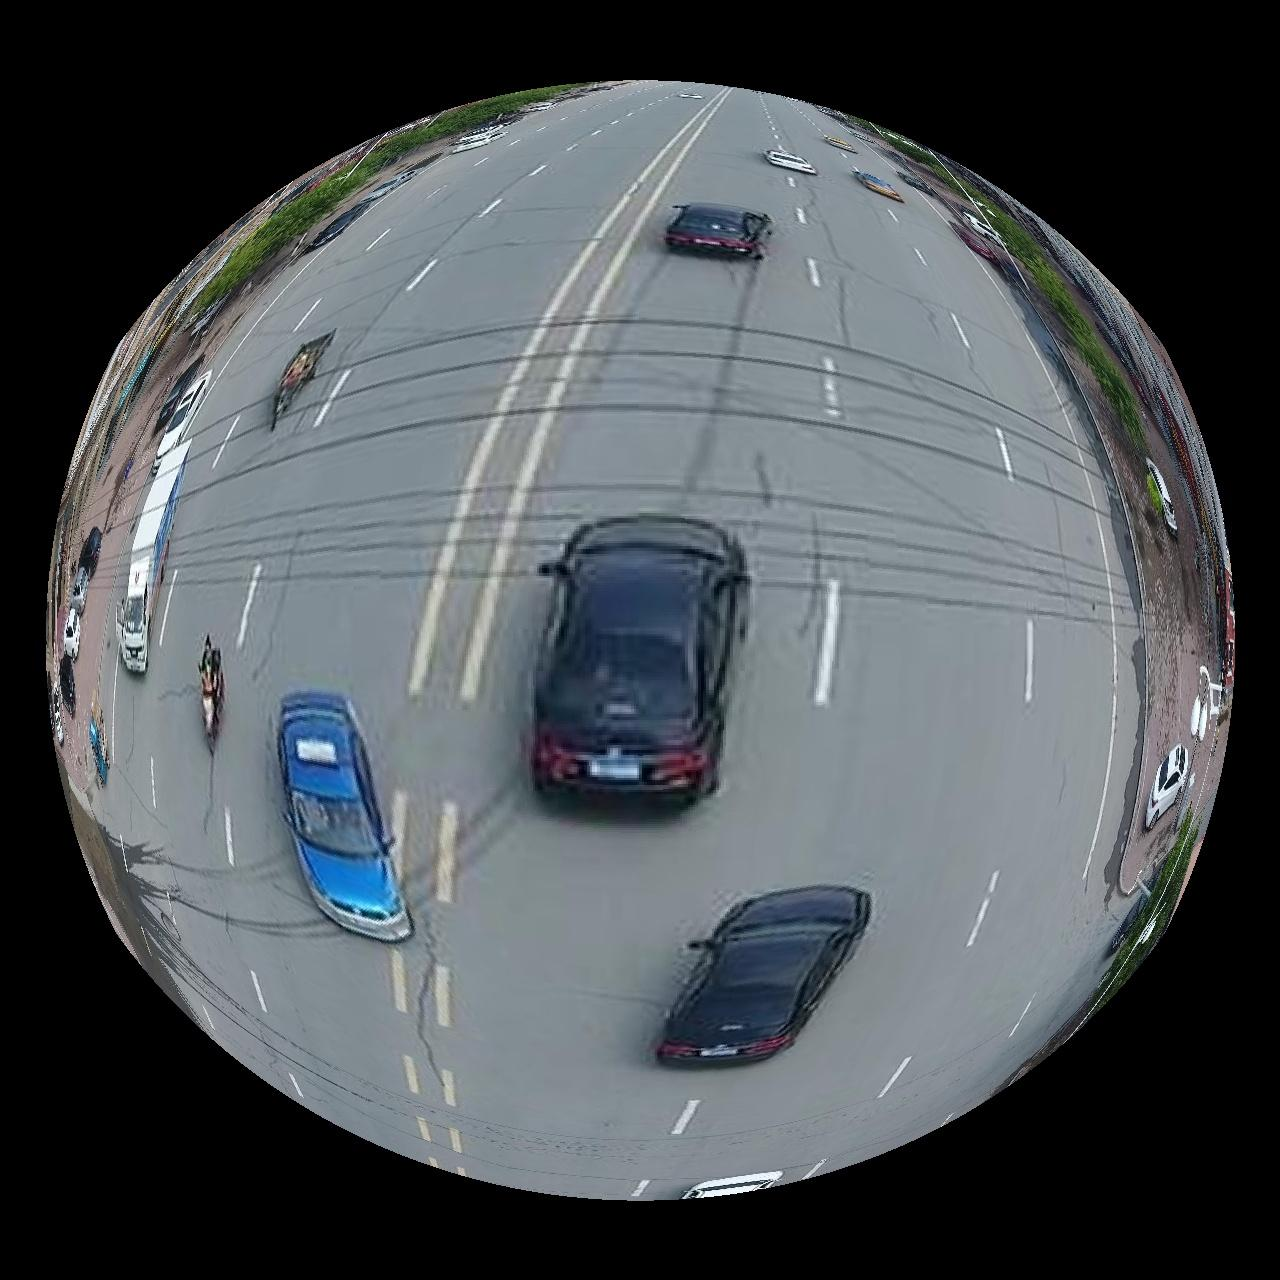cars: (532, 517, 750, 801), (658, 887, 871, 1068), (277, 693, 411, 942), (117, 440, 188, 673), (665, 202, 772, 258), (152, 355, 203, 433), (1148, 745, 1193, 830), (683, 1175, 784, 1201), (1148, 457, 1180, 538), (855, 166, 906, 202), (763, 147, 818, 173), (823, 132, 859, 152)
